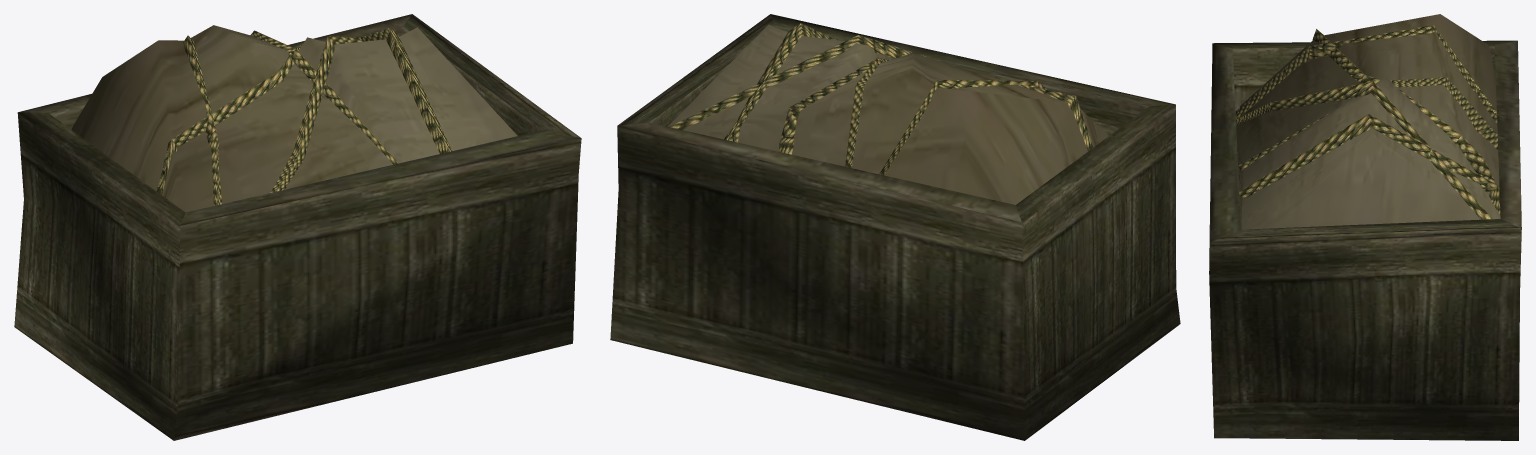
The model's file is OM_OREBOX_01.glb.
3 views of the same model, side by side, from view 1: azimuth 30°, elevation 25°; view 2: azimuth 150°, elevation 25°; view 3: azimuth 270°, elevation 25° (orthographic). The views are drawn at different scales.
Parts seen in each view (by area): view 1: Mesh; view 2: Mesh; view 3: Mesh.
Boxes of the visible parts, <box> form: Mesh: <box>14,14,581,440</box>; Mesh: <box>610,14,1180,440</box>; Mesh: <box>1209,14,1521,440</box>.
Size of the model in its own units: 1.67 by 1.16 by 1.14.
Materials: 3 (3 with a texture image).
